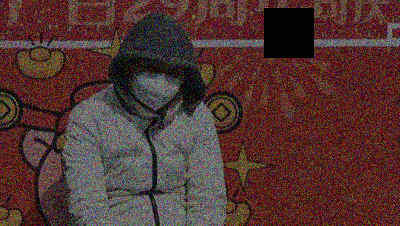with_mask: (125, 59, 184, 114)
